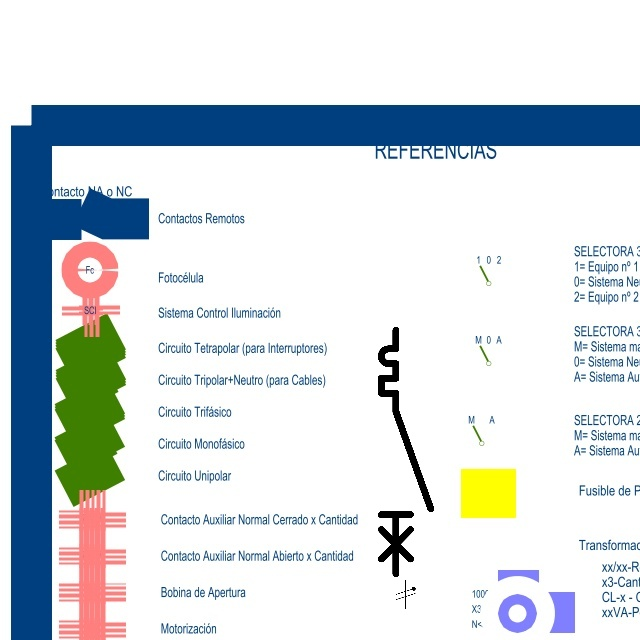interruptor_termomagnetico: (375, 324, 437, 580)
